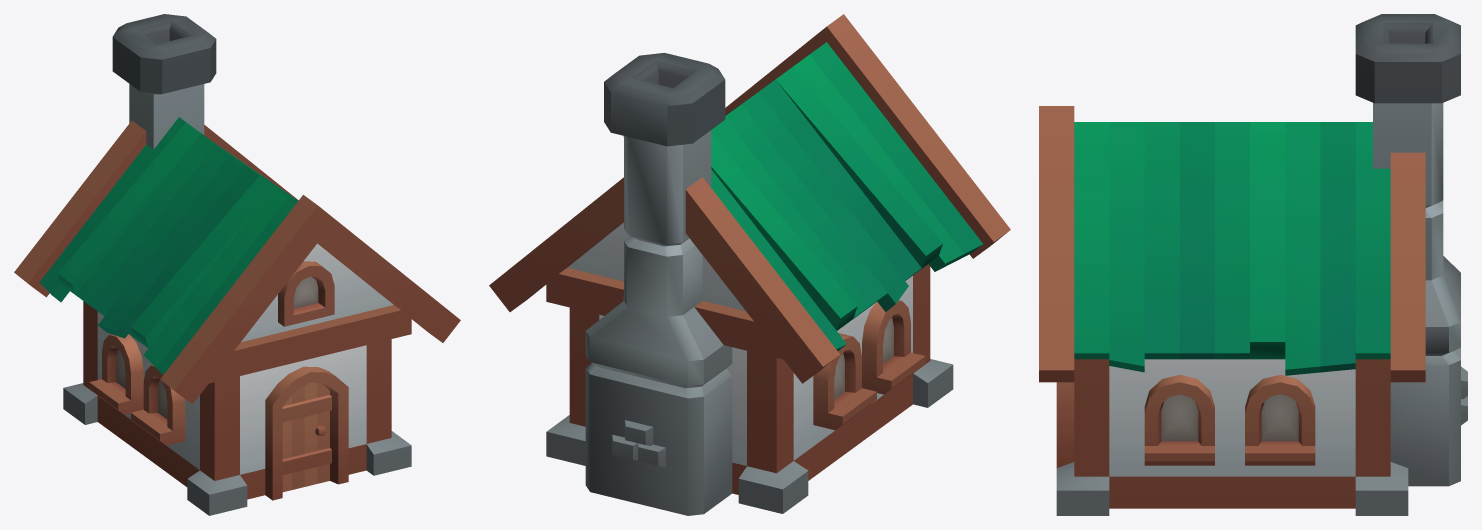
File: kay-casa-verde.gltf
3 views of the same model, side by side, from view 1: azimuth 30°, elevation 25°; view 2: azimuth 150°, elevation 25°; view 3: azimuth 270°, elevation 25° (orthographic). The views are drawn at different scales.
Parts seen in each view (by area): view 1: building_home_A_green; view 2: building_home_A_green; view 3: building_home_A_green.
Part boxes in pixels (bbox=[...]): building_home_A_green: bbox=[14, 14, 460, 515]; building_home_A_green: bbox=[489, 14, 1010, 515]; building_home_A_green: bbox=[1039, 14, 1467, 515].
Size of the model in its own units: 3.96 by 4.65 by 4.27.
Materials: 1 (1 with a texture image).
